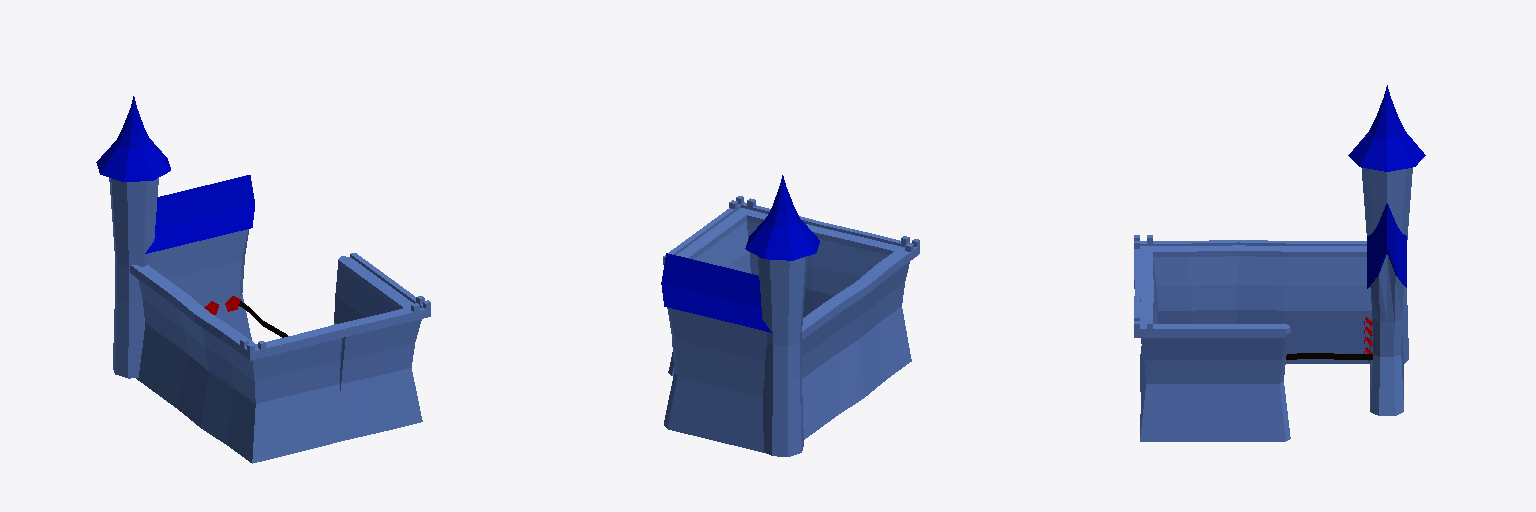
Rendered from Barracks_Am.obj.
3 views of the same model, side by side, from view 1: azimuth 30°, elevation 25°; view 2: azimuth 150°, elevation 25°; view 3: azimuth 270°, elevation 25° (orthographic).
Parts seen in each view (by area): view 1: Cylinder; view 2: Cylinder; view 3: Cylinder, Cylinder.004.
Boxes of the visible parts, <box> form: Cylinder: <box>96,96,430,463</box>; Cylinder: <box>661,175,919,456</box>; Cylinder: <box>1134,85,1425,441</box>; Cylinder.004: <box>1286,347,1372,359</box>.
Bounding box in the file's own units: 0.9195 × 1.19 × 1.14.